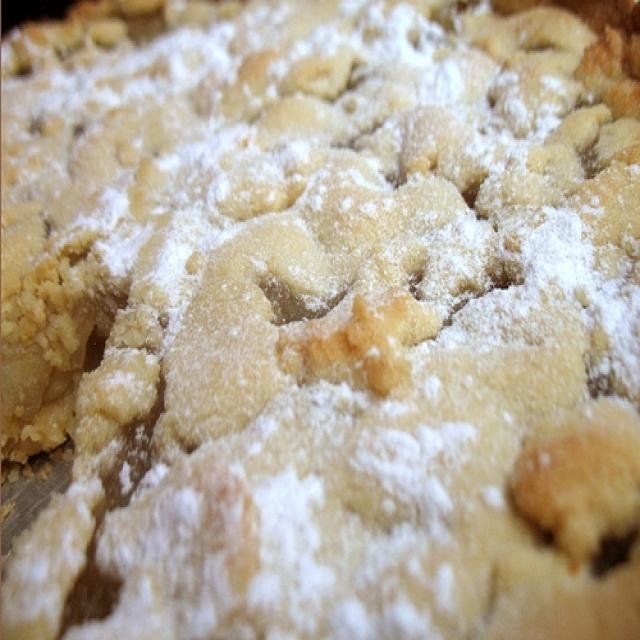Apple: (6, 25, 639, 640)
